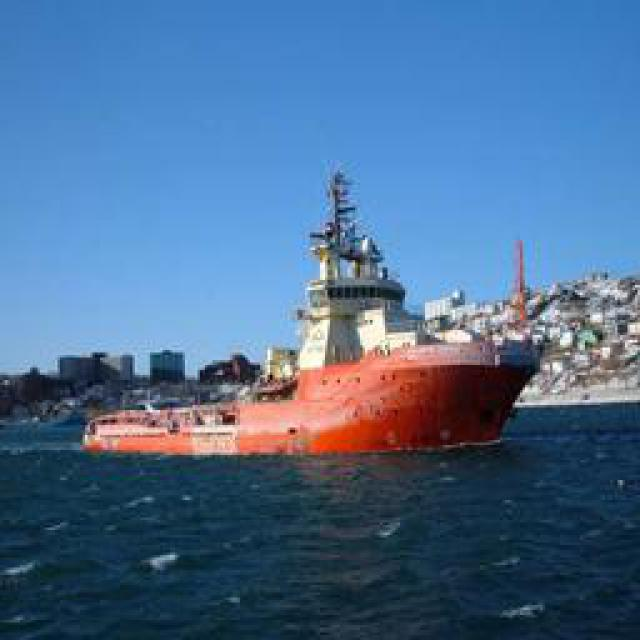Ship: (101, 167, 544, 455)
